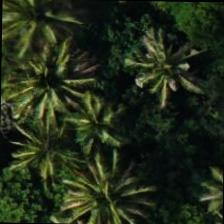Kelapa_Sawit: (45, 76, 137, 168), (122, 20, 214, 112), (2, 35, 94, 127), (0, 103, 89, 196), (64, 149, 157, 223), (1, 0, 73, 62)
